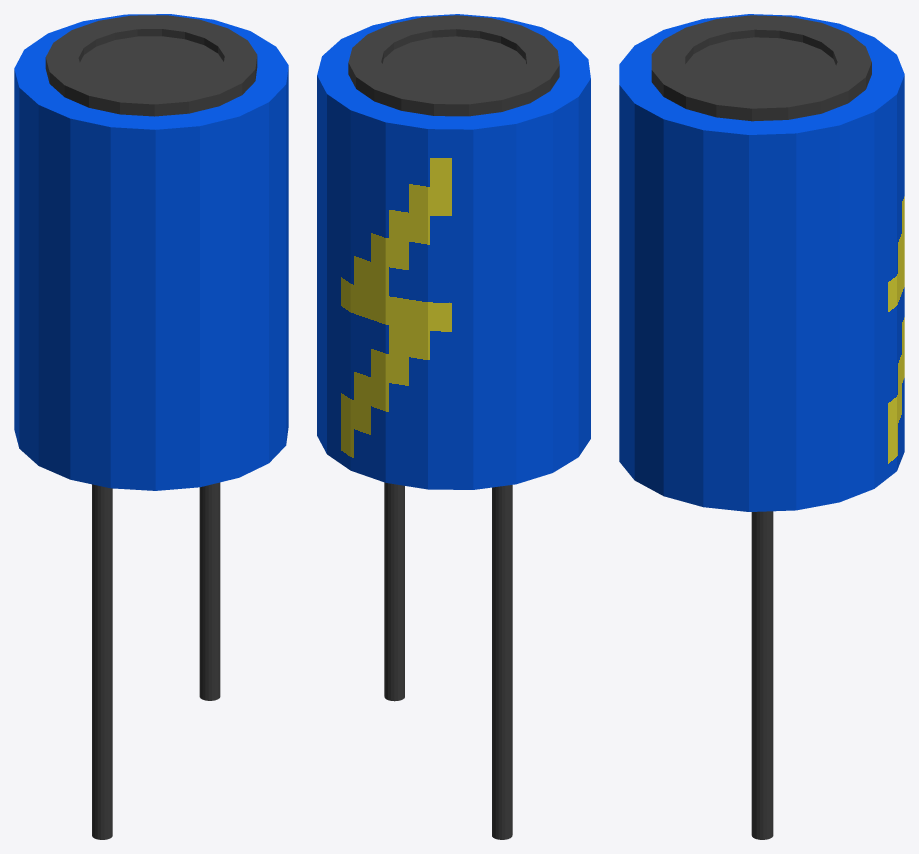
File: capacitor.fbx
3 views of the same model, side by side, from view 1: azimuth 30°, elevation 25°; view 2: azimuth 150°, elevation 25°; view 3: azimuth 270°, elevation 25° (orthographic). The views are drawn at different scales.
Visible parts, largest first — view 1: Cilindro, Cilindro.001, Cilindro.002; view 2: Cilindro, Cilindro.001, Cilindro.002; view 3: Cilindro, Cilindro.002, Cilindro.001.
Boxes of the visible parts, x1,y1,x2,y2 form: Cilindro: (14, 14, 288, 490); Cilindro.001: (92, 484, 112, 839); Cilindro.002: (199, 482, 220, 700); Cilindro: (317, 14, 590, 489); Cilindro.001: (492, 485, 512, 839); Cilindro.002: (384, 482, 404, 701); Cilindro: (619, 14, 904, 511); Cilindro.002: (751, 511, 773, 776); Cilindro.001: (751, 773, 773, 839).
Size of the model in its own units: 64.35 by 198 by 64.13.
